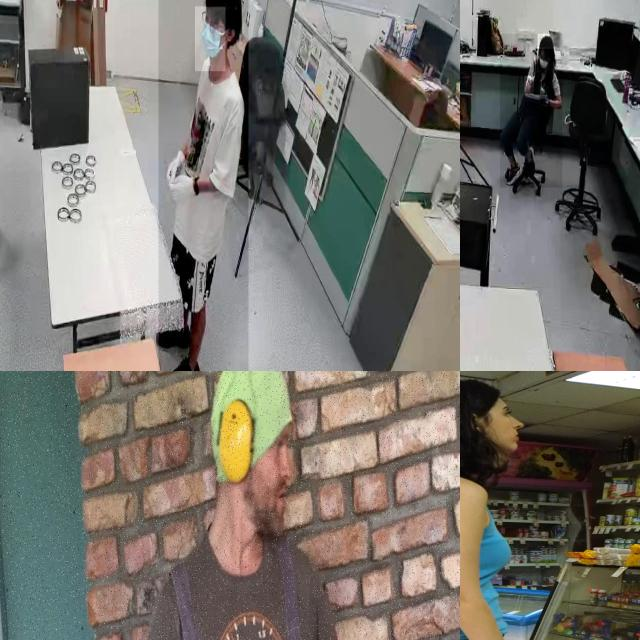Ear-protection: (218, 406, 260, 482)
face_mask: (195, 6, 225, 72), (537, 47, 550, 72)
glasses: (200, 10, 223, 32)
hand_glove: (166, 170, 202, 208), (163, 142, 187, 188)
hand_noglove: (524, 75, 534, 94), (540, 94, 550, 110)
head_nohelmet: (203, 0, 241, 8), (538, 34, 554, 50)
person: (158, 0, 249, 371), (500, 34, 563, 188)
shoes: (160, 352, 204, 371), (524, 144, 538, 179), (504, 158, 520, 188)
